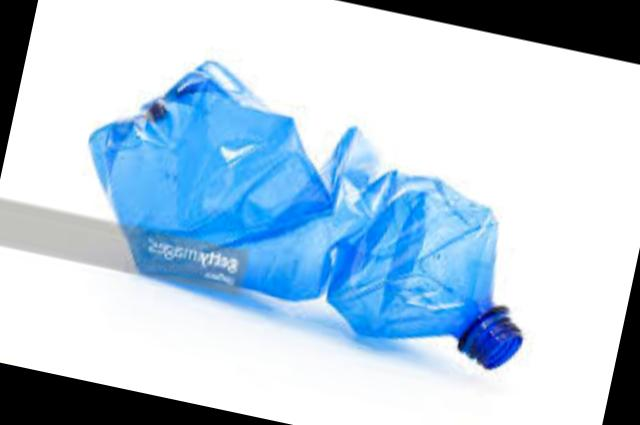plastic: (95, 59, 525, 363)
